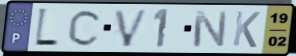1: (151, 7, 171, 50)
C: (66, 8, 105, 48)
K: (230, 9, 263, 50)
L: (33, 6, 61, 49)
N: (190, 9, 229, 49)
V: (112, 8, 151, 49)
